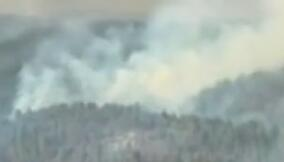yanwu: (3, 0, 284, 118)
